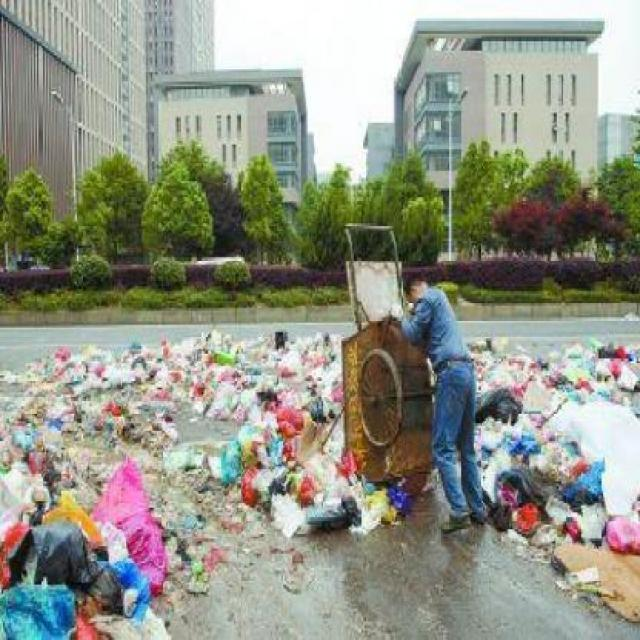garbage: (0, 363, 162, 638), (480, 342, 638, 611), (137, 333, 337, 533)
